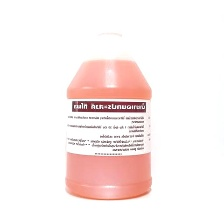cleaning_solution: (63, 17, 153, 202)
